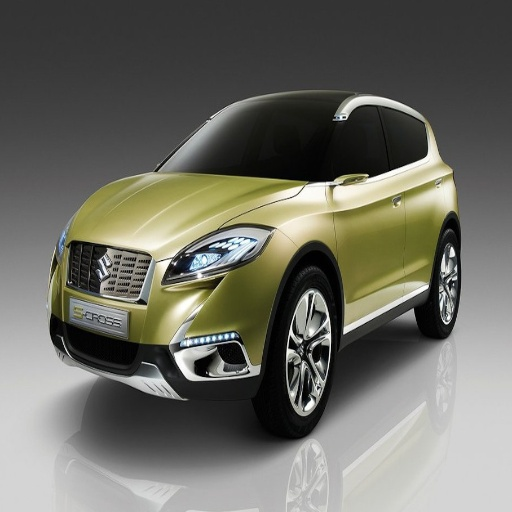front_bumper: (51, 240, 284, 396)
front_glass: (158, 97, 335, 180)
front_left_door: (331, 102, 404, 304)
